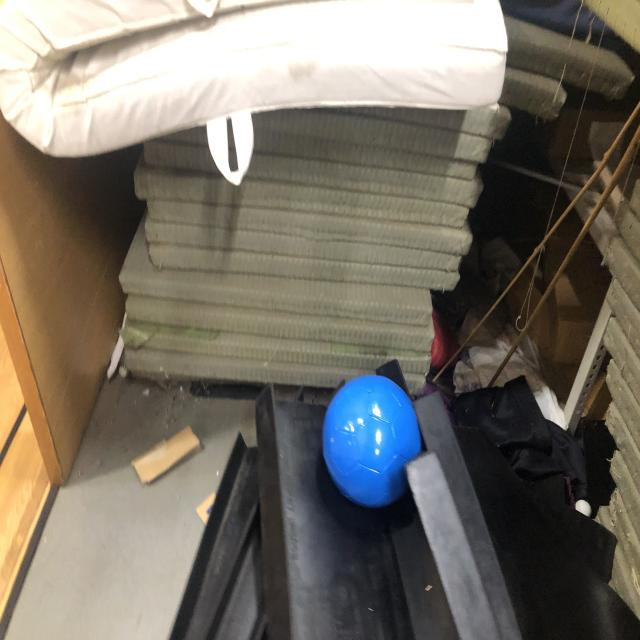blue_ball: (322, 371, 420, 508)
